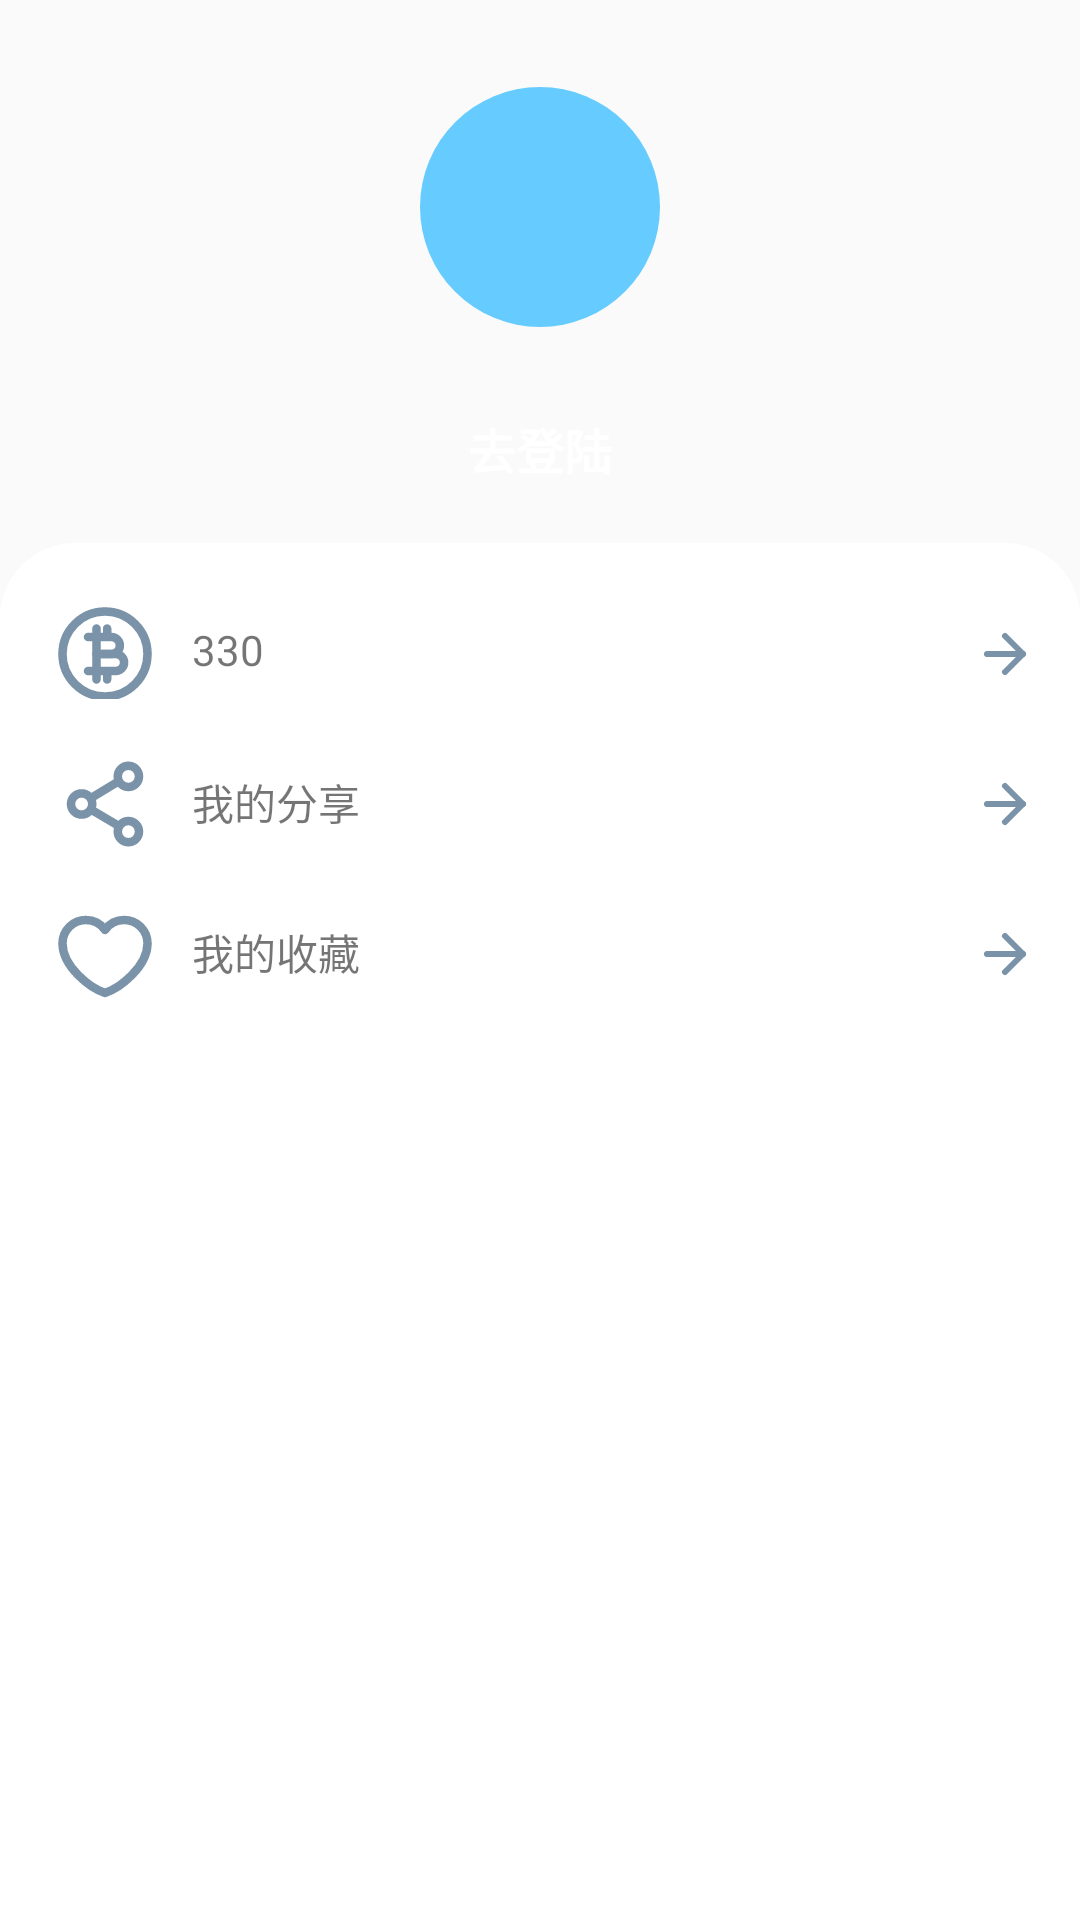

Icon bounding boxes for this 1080px×1920px phone screenshot, format Rect(x1, y1, x2, y2):
like: Rect(58, 915, 152, 998)
right: Rect(984, 633, 1026, 675), Rect(984, 783, 1026, 825), Rect(984, 933, 1026, 975)
share: Rect(66, 761, 144, 847)
